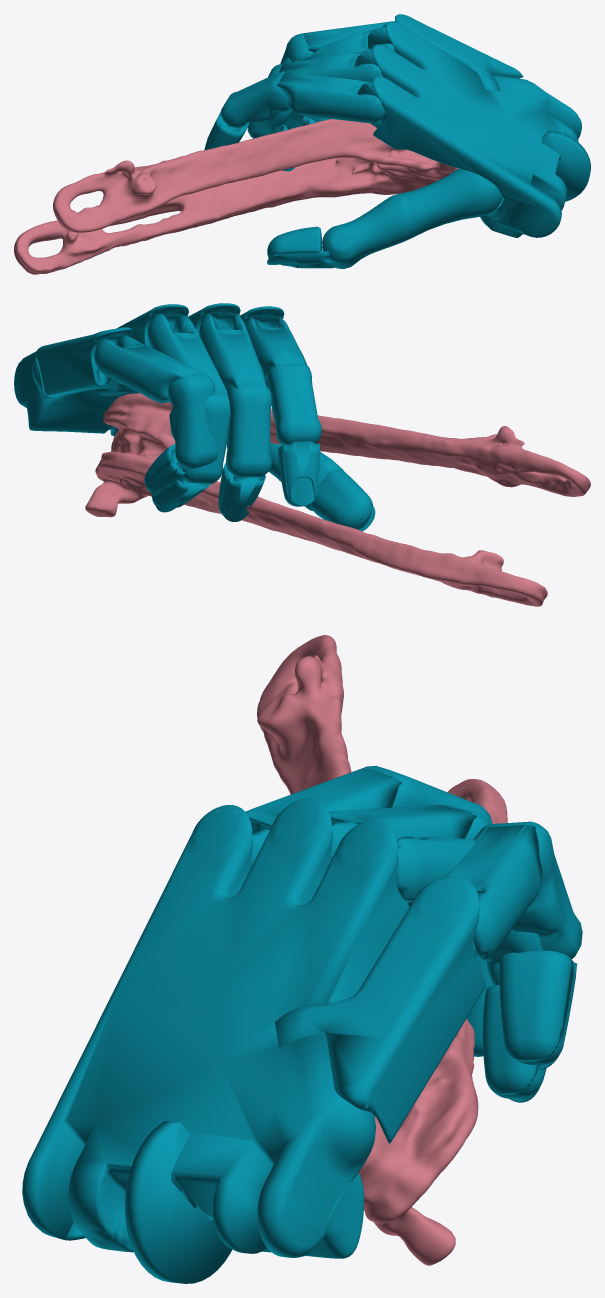
The picture shows the model from 3 angles, top to bottom: view 1: azimuth 30°, elevation 25°; view 2: azimuth 150°, elevation 25°; view 3: azimuth 270°, elevation 25°; orthographic projection. The views are drawn at different scales.
Parts seen in each view (by area): view 1: world; view 2: world; view 3: world.
Boxes of the visible parts, bbox=[...] form: world: bbox=[14, 14, 590, 274]; world: bbox=[14, 303, 590, 606]; world: bbox=[22, 635, 582, 1283].
Size of the model in its own units: 0.2809 by 0.1009 by 0.1312.
